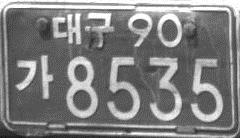0: (156, 12, 184, 49)
3: (147, 56, 182, 122)
5: (188, 57, 224, 124), (106, 55, 141, 120)
8: (65, 54, 100, 120)
9: (126, 11, 153, 47)
가: (14, 53, 55, 101)
대구_O: (50, 10, 115, 49)
